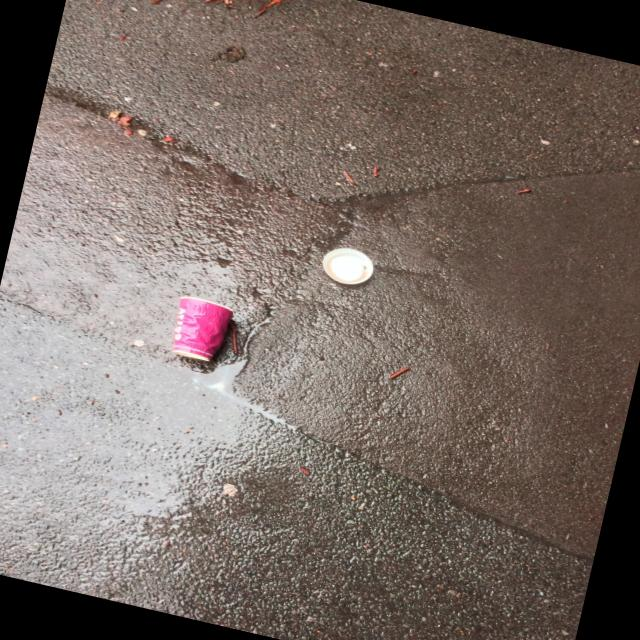less trash: (173, 296, 233, 361), (321, 248, 373, 284)
